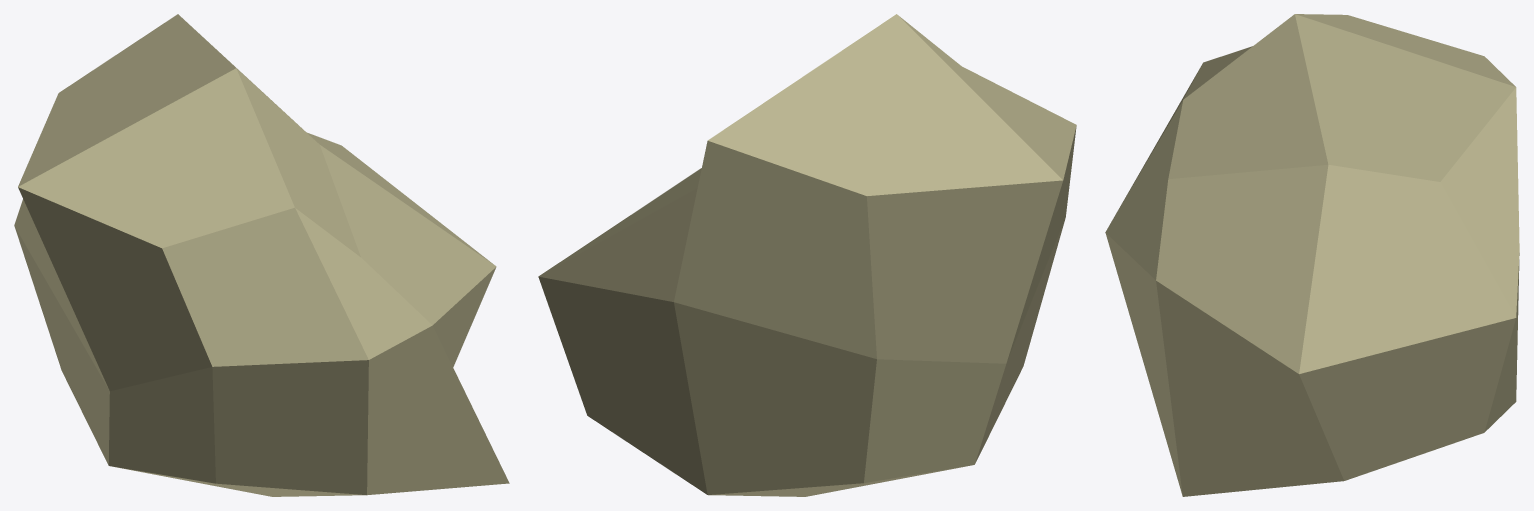
Rendered from moving_doll.fbx.
The picture shows the model from 3 angles, left to right: view 1: azimuth 30°, elevation 25°; view 2: azimuth 150°, elevation 25°; view 3: azimuth 270°, elevation 25°; orthographic projection. The views are drawn at different scales.
Visible parts, largest first — view 1: moving_doll; view 2: moving_doll; view 3: moving_doll.
Boxes of the visible parts, <box> form: moving_doll: <box>14,14,509,496</box>; moving_doll: <box>538,14,1076,496</box>; moving_doll: <box>1105,14,1519,496</box>.
Size of the model in its own units: 55.04 by 53.84 by 47.55.
